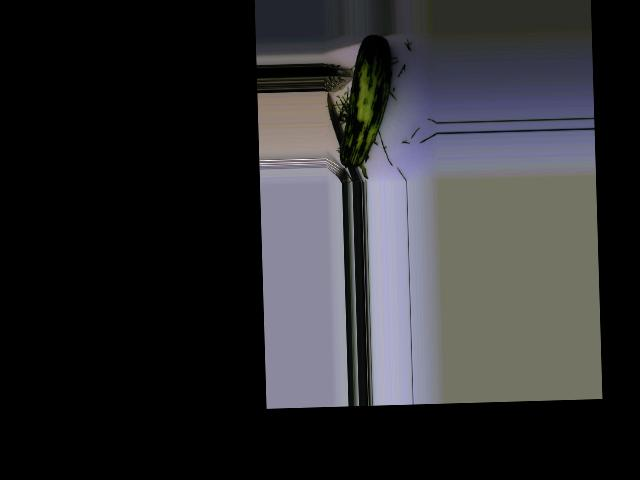cucumber: (336, 34, 394, 169)
